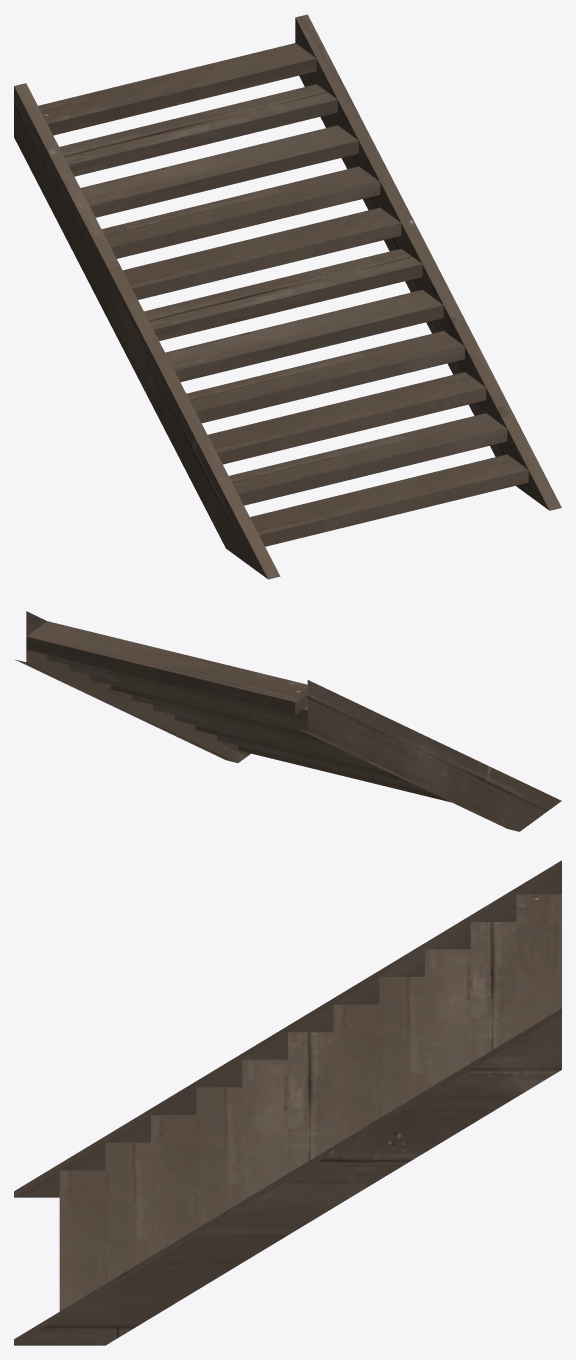
3 renders of one model, top to bottom at view 1: azimuth 30°, elevation 25°; view 2: azimuth 150°, elevation 25°; view 3: azimuth 270°, elevation 25°, orthographic. The views are drawn at different scales.
Visible parts, largest first — view 1: body0_model0_lod0_mesh0; view 2: body0_model0_lod0_mesh0; view 3: body0_model0_lod0_mesh0.
Part boxes in pixels (left/top/right/bottom): body0_model0_lod0_mesh0: left=14, top=14, right=561, bottom=579; body0_model0_lod0_mesh0: left=15, top=611, right=561, bottom=831; body0_model0_lod0_mesh0: left=14, top=860, right=561, bottom=1345.
Size of the model in its own units: 96.01 by 96.01 by 144.
Materials: 1 (1 with a texture image).
